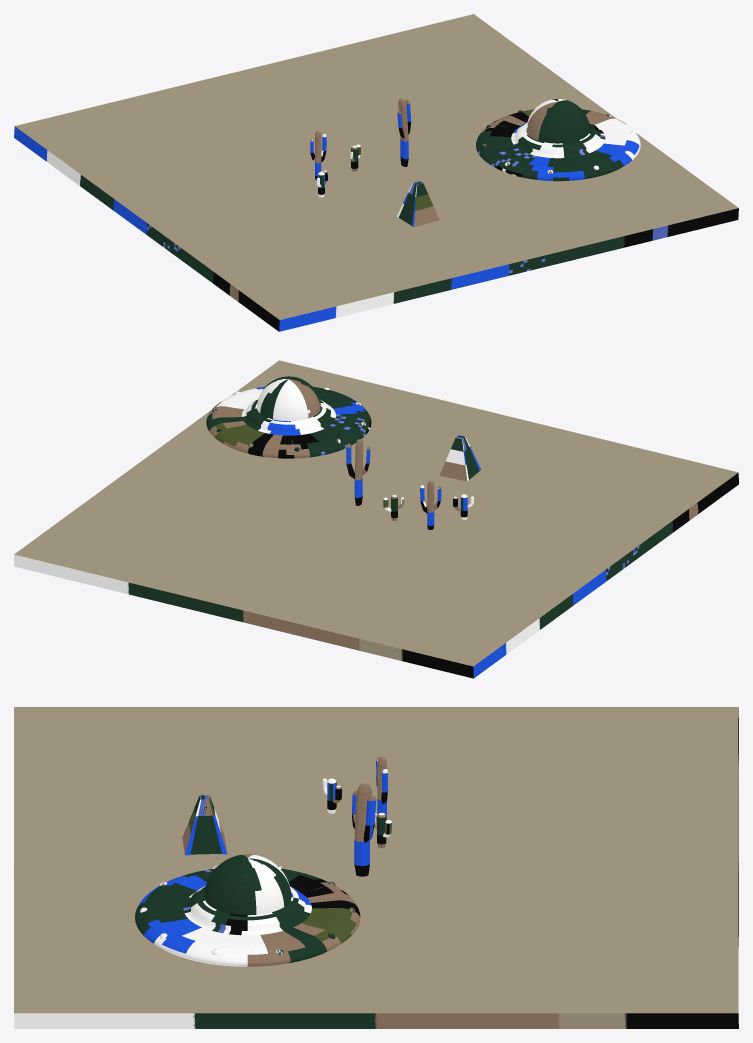
Rendered from mainIter2.gltf.
The picture shows the model from 3 angles, top to bottom: view 1: azimuth 30°, elevation 25°; view 2: azimuth 150°, elevation 25°; view 3: azimuth 270°, elevation 25°; orthographic projection. The views are drawn at different scales.
Parts seen in each view (by area): view 1: Plane; view 2: Plane; view 3: Plane.
Part boxes in pixels (x1,y1,x2,y2): Plane: (14,14,738,331); Plane: (14,360,738,678); Plane: (14,707,738,1028).
Size of the model in its own units: 23.36 by 3.82 by 23.35.
Materials: 1 (1 with a texture image).
